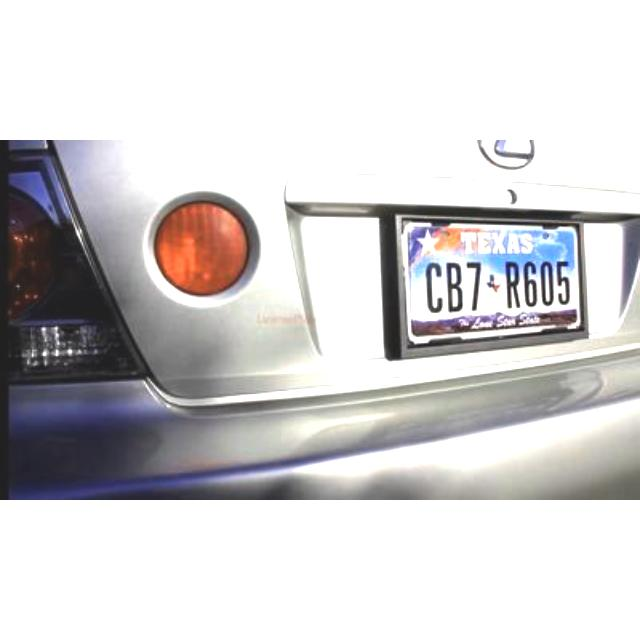plate: (399, 217, 589, 347)
